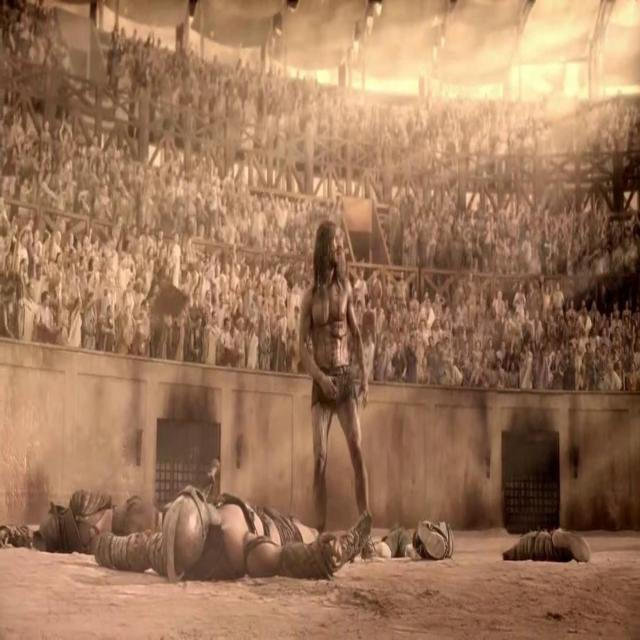flood: (327, 296, 347, 362)
